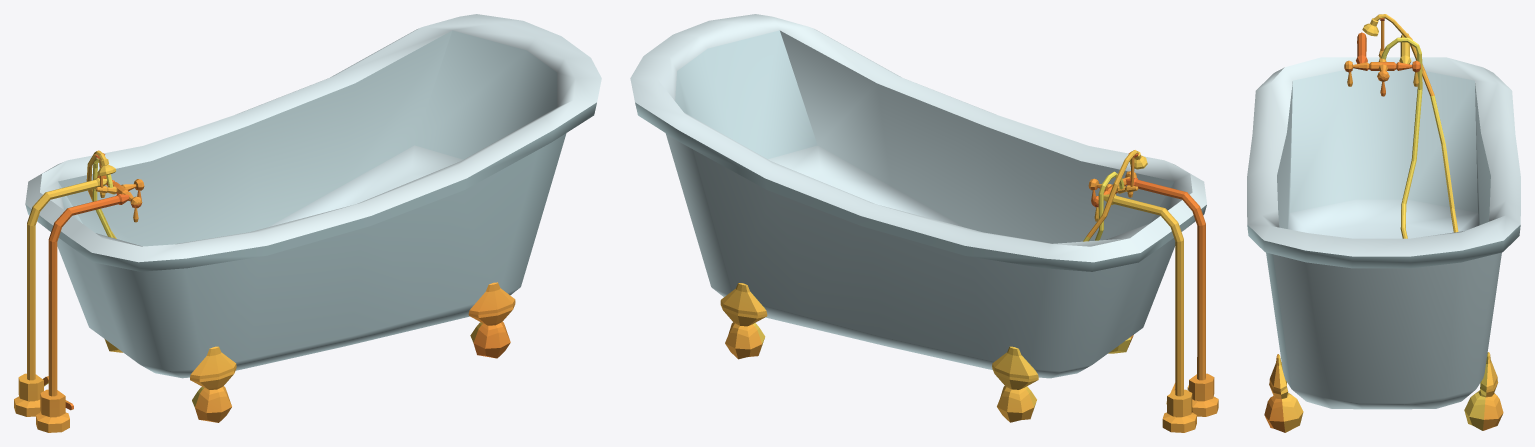
Rendered from bathtube.fbx.
3 views of the same model, side by side, from view 1: azimuth 30°, elevation 25°; view 2: azimuth 150°, elevation 25°; view 3: azimuth 270°, elevation 25° (orthographic).
Parts seen in each view (by area): view 1: bathtube; view 2: bathtube; view 3: bathtube.
Part boxes in pixels (box(x1,y1,x2,y2)): bathtube: box(14, 14, 601, 432); bathtube: box(630, 14, 1218, 432); bathtube: box(1247, 14, 1520, 432).
Bounding box in the file's own units: 22.36 × 9.83 × 9.7.
1 material, 1 textured.
